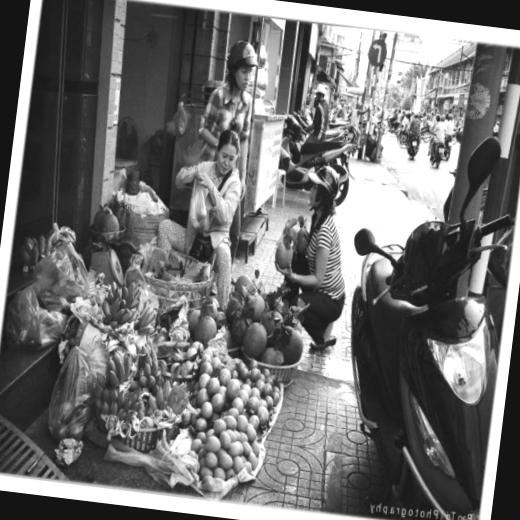Banana: (88, 277, 204, 426), (110, 294, 121, 313)
